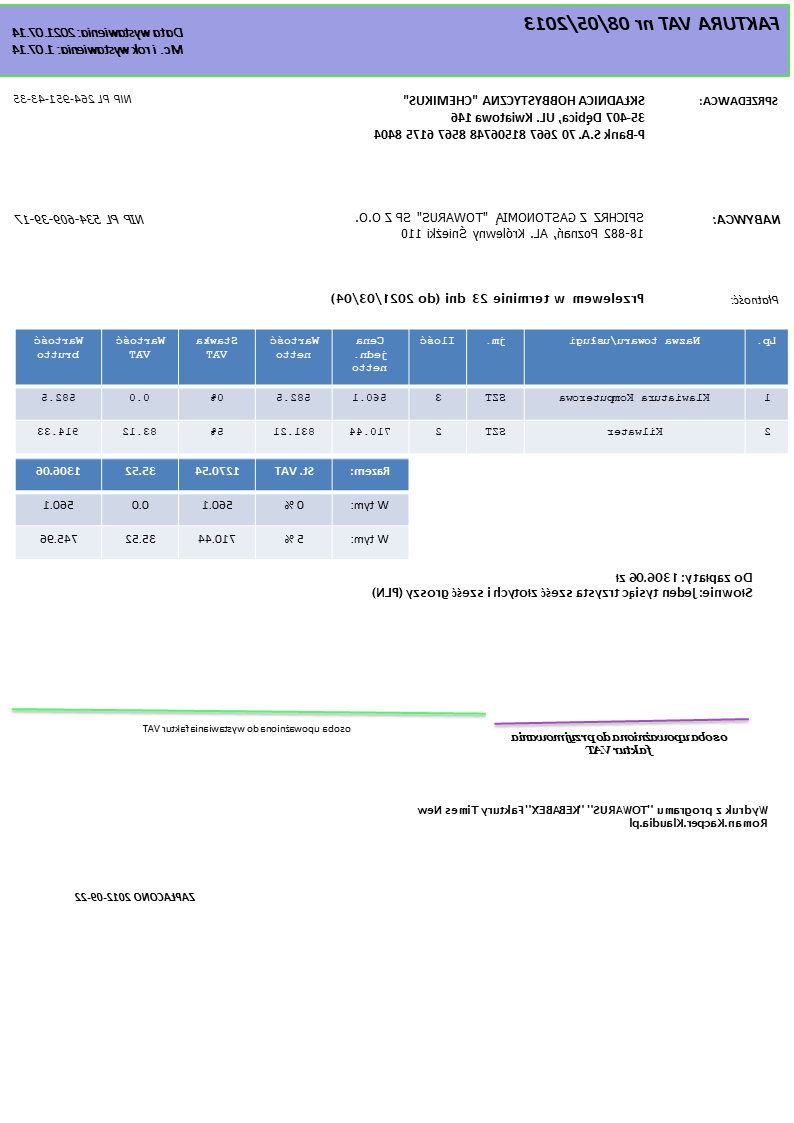Table: (15, 328, 791, 455), (14, 457, 410, 559)
TextBox: (371, 91, 648, 143), (370, 570, 755, 602), (416, 802, 771, 832), (352, 209, 647, 241), (10, 24, 187, 59), (522, 13, 783, 36), (509, 729, 729, 756), (329, 290, 646, 307), (142, 722, 353, 737), (74, 888, 198, 906), (14, 212, 146, 228), (13, 91, 134, 106), (697, 93, 781, 109), (711, 211, 783, 228), (730, 292, 781, 307)
